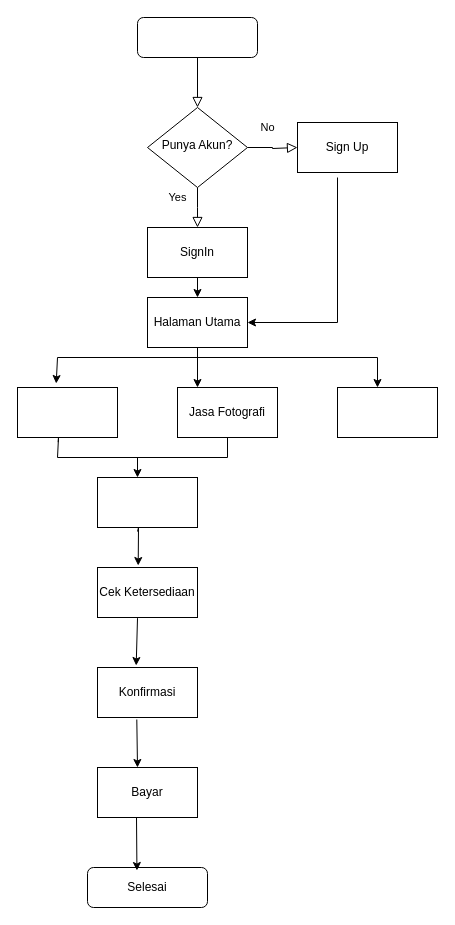
The diagram is 455 pixels wide and 925 high, and some of its shapes have lost their labels. Here are the shapes that lost their labels. From the top down, the box of each, then its label:
(136, 16, 258, 58): Mulai
(16, 386, 118, 438): Peminjaman Inventaris
(336, 386, 438, 438): Daftar Harga
(96, 476, 198, 528): Cek Spesifikasi
